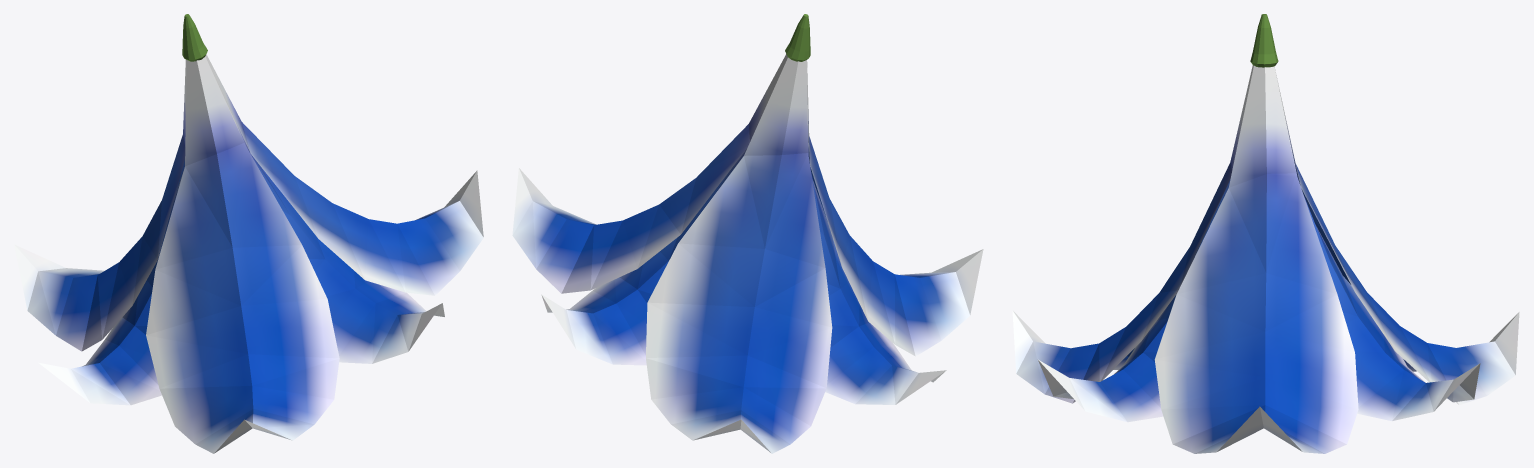
File: BLUE LILY HAT.fbx
The picture shows the model from 3 angles, left to right: view 1: azimuth 30°, elevation 25°; view 2: azimuth 150°, elevation 25°; view 3: azimuth 270°, elevation 25°; orthographic projection. The views are drawn at different scales.
Visible parts, largest first — view 1: BLUE_LILY_HAT; view 2: BLUE_LILY_HAT; view 3: BLUE_LILY_HAT.
Boxes of the visible parts, left/top/right/bottom form: BLUE_LILY_HAT: left=14, top=14, right=483, bottom=453; BLUE_LILY_HAT: left=512, top=14, right=983, bottom=453; BLUE_LILY_HAT: left=1012, top=14, right=1519, bottom=453.
Size of the model in its own units: 45.5 by 36.34 by 42.91.
